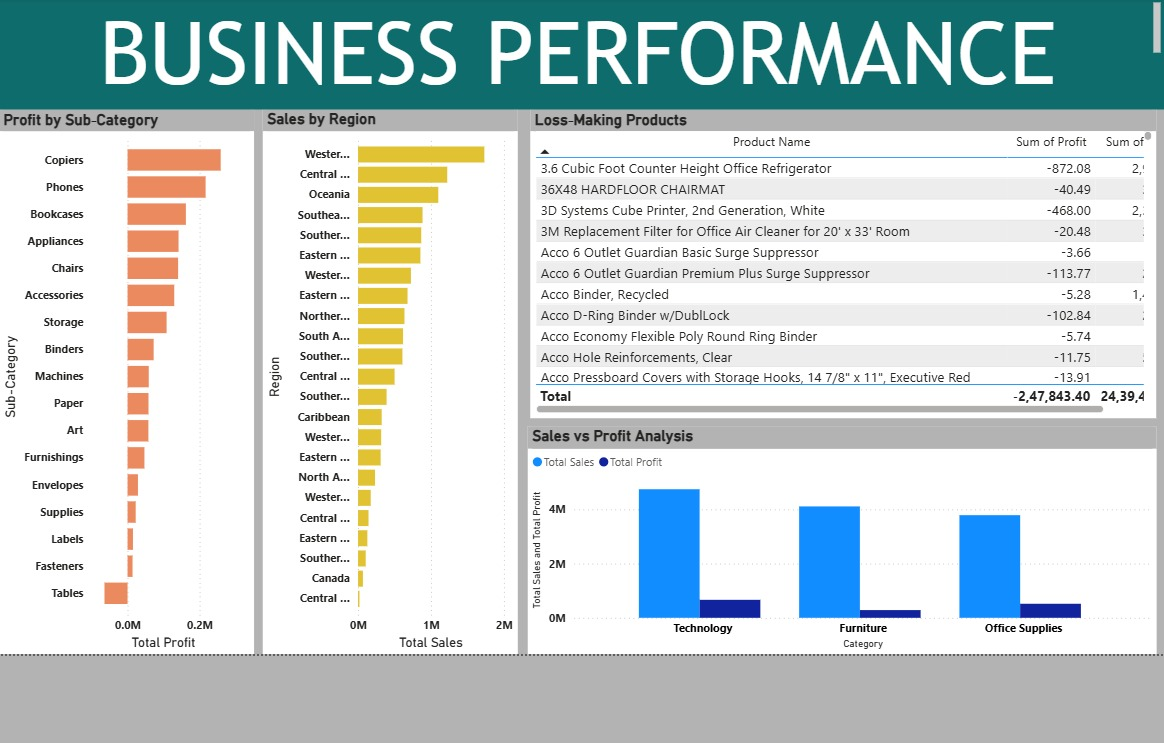

What the dashboard file says about the page in this screenshot:
{"tool":"powerbi","page":{"name":"Business Performance Insights","canvas":[1280,720],"ordinal":1},"visuals":[{"type":"clusteredBarChart","title":"Profit by Sub‑Category","fields":{"Category":["Orders.Sub-Category"],"Y":["Orders.Total Profit"]},"box":[0,122.1,279.9,598.3],"z":0},{"type":"clusteredBarChart","title":"Sales by Region","fields":{"Category":["Orders.Region"],"Y":["Orders.Total Sales"]},"box":[289.5,122.1,279.9,598.3],"z":1000},{"type":"lineClusteredColumnComboChart","title":"Sales vs Profit Analysis","fields":{"Y":["Orders.Total Sales","Orders.Total Profit"],"Category":["Orders.Category"]},"box":[580.4,470.7,690.2,249.7],"z":2000},{"type":"tableEx","title":"Loss‑Making Products","fields":{"Values":["Orders.Product Name","Sum(Orders.Profit)","Sum(Orders.Sales)"]},"box":[583.2,122.1,687.5,338.9],"z":3000},{"type":"textbox","box":[0,0,1280.3,122.1],"z":4000}]}

Visuals, with their boxes on the page's 1280x720 design canvas (x1, y1, x2, y2). These are canvas units, not pixel positions in the 1164x743 screenshot, which may show the page scaled, cropped or inside an application window:
"Profit by Sub‑Category" clusteredBarChart: 0/122/280/720
"Sales by Region" clusteredBarChart: 290/122/569/720
"Sales vs Profit Analysis" lineClusteredColumnComboChart: 580/471/1271/720
"Loss‑Making Products" tableEx: 583/122/1271/461
textbox: 0/0/1280/122
